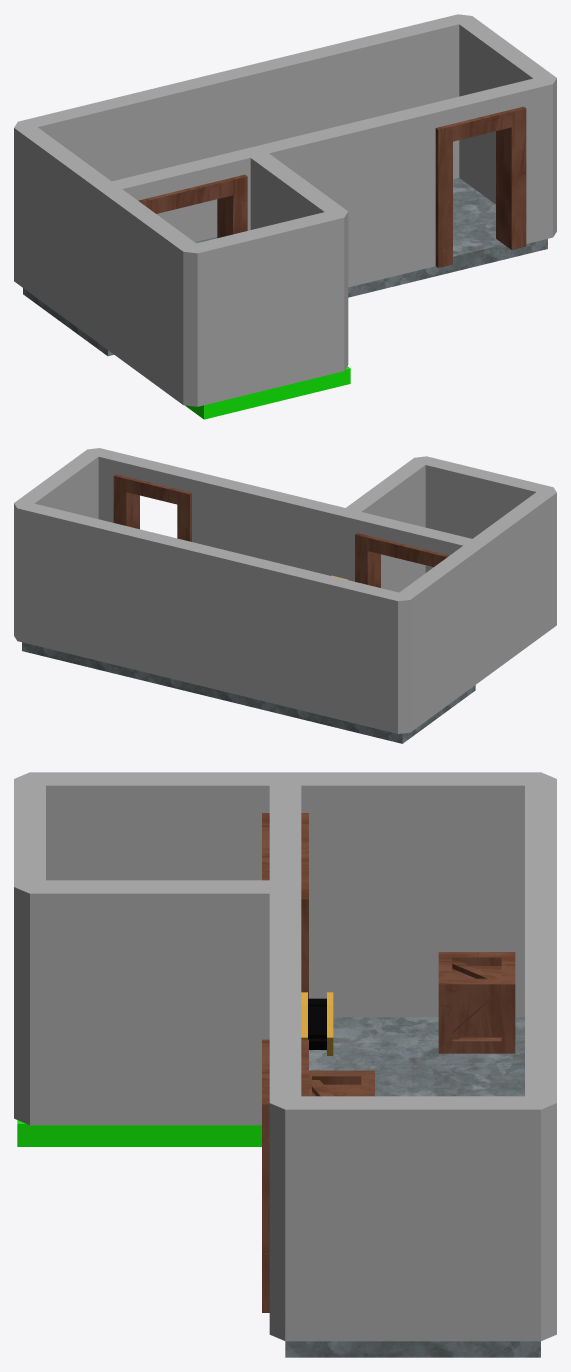
The model's file is Level_1_7-Unlocked.fbx.
3 renders of one model, top to bottom at view 1: azimuth 30°, elevation 25°; view 2: azimuth 150°, elevation 25°; view 3: azimuth 270°, elevation 25°, orthographic. The views are drawn at different scales.
Parts seen in each view (by area): view 1: mergedBlocks; view 2: mergedBlocks; view 3: mergedBlocks.
Boxes of the visible parts, x1,y1,x2,y2 form: mergedBlocks: [14, 14, 556, 419]; mergedBlocks: [14, 448, 556, 743]; mergedBlocks: [14, 772, 556, 1357].
Bounding box in the file's own units: 62.5 × 22 × 42.5.
7 materials, 3 textured.
